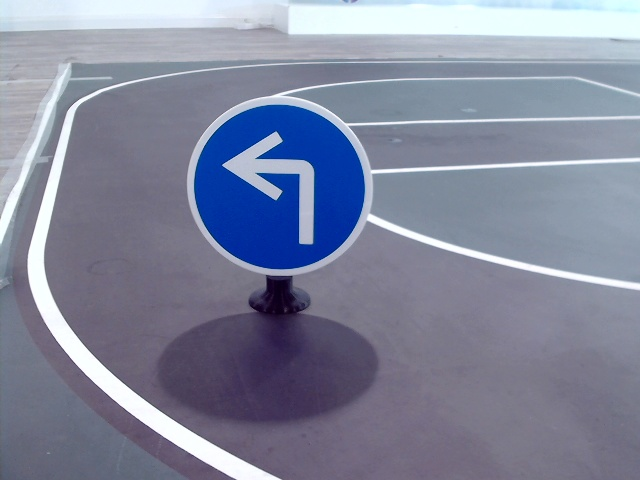turn_left: (224, 126, 318, 245)
